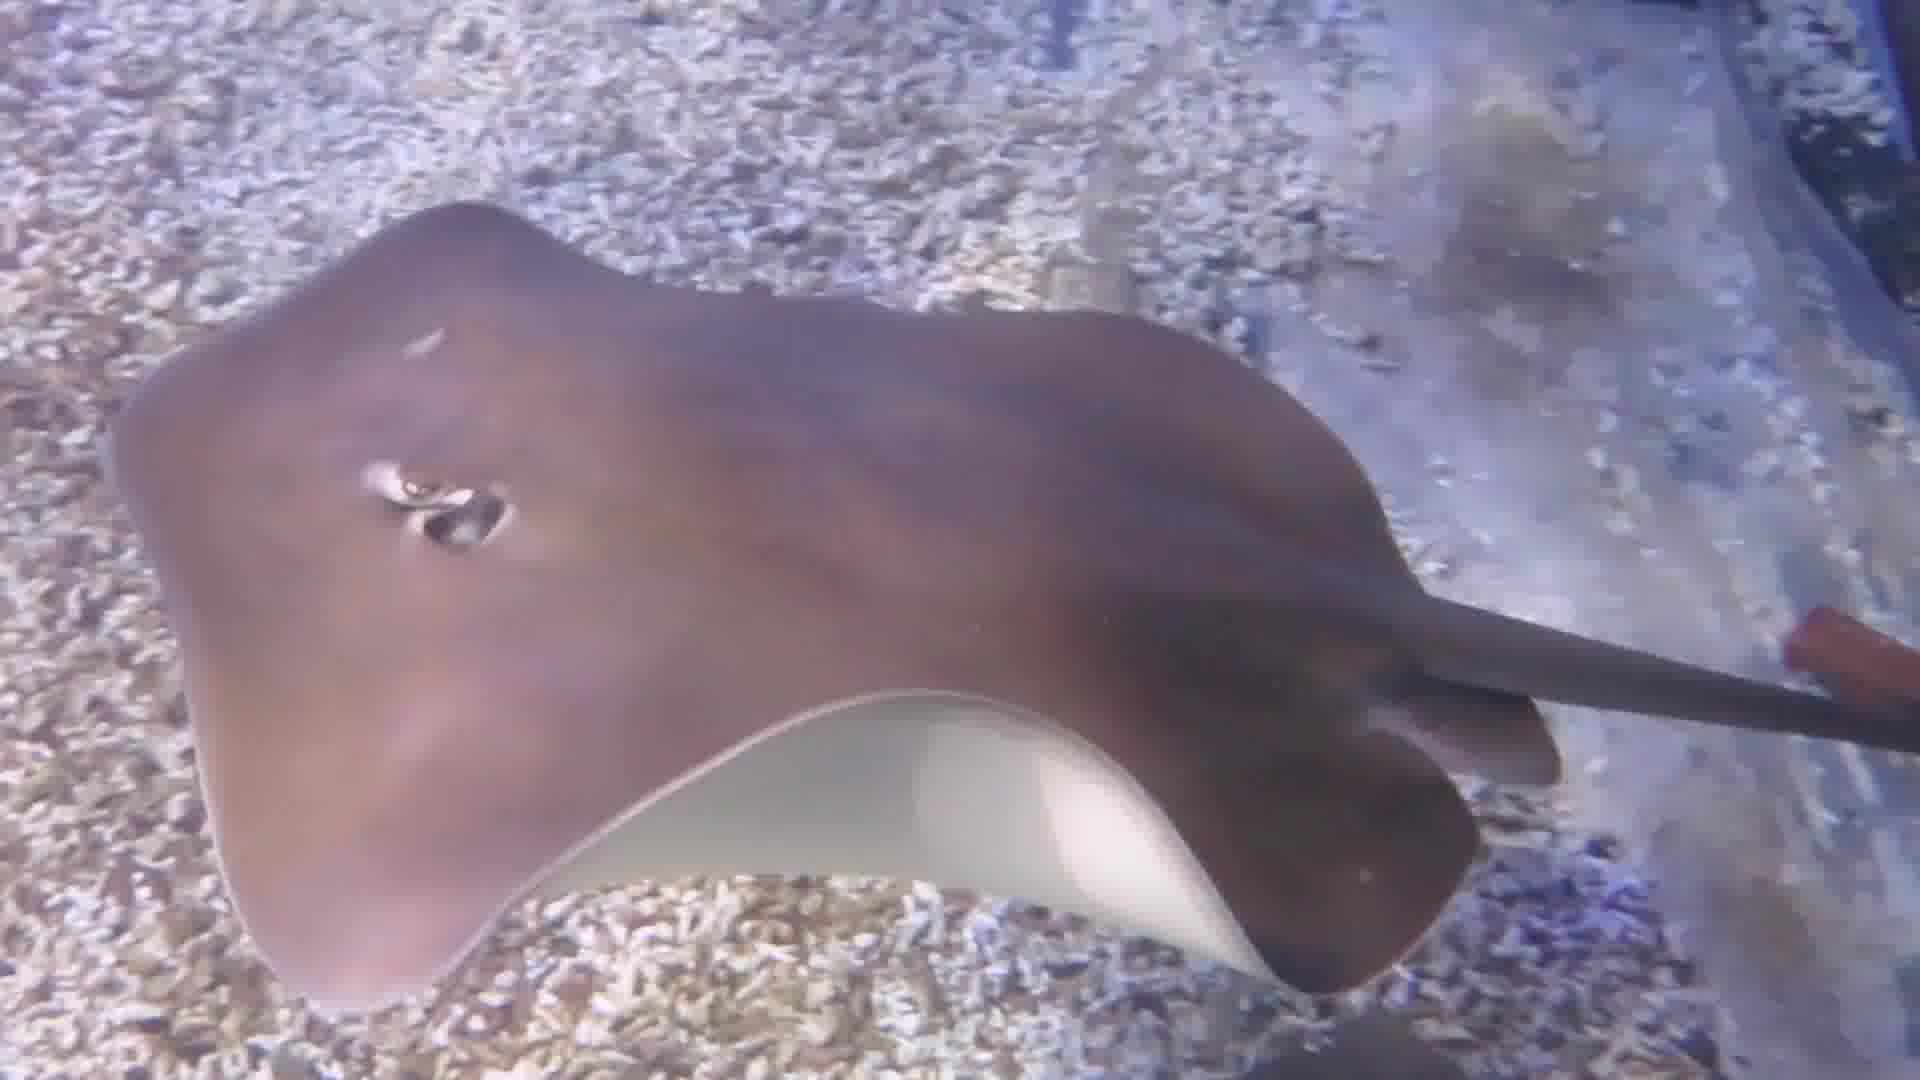Dasyatis akajei: (104, 1, 1902, 1080)
